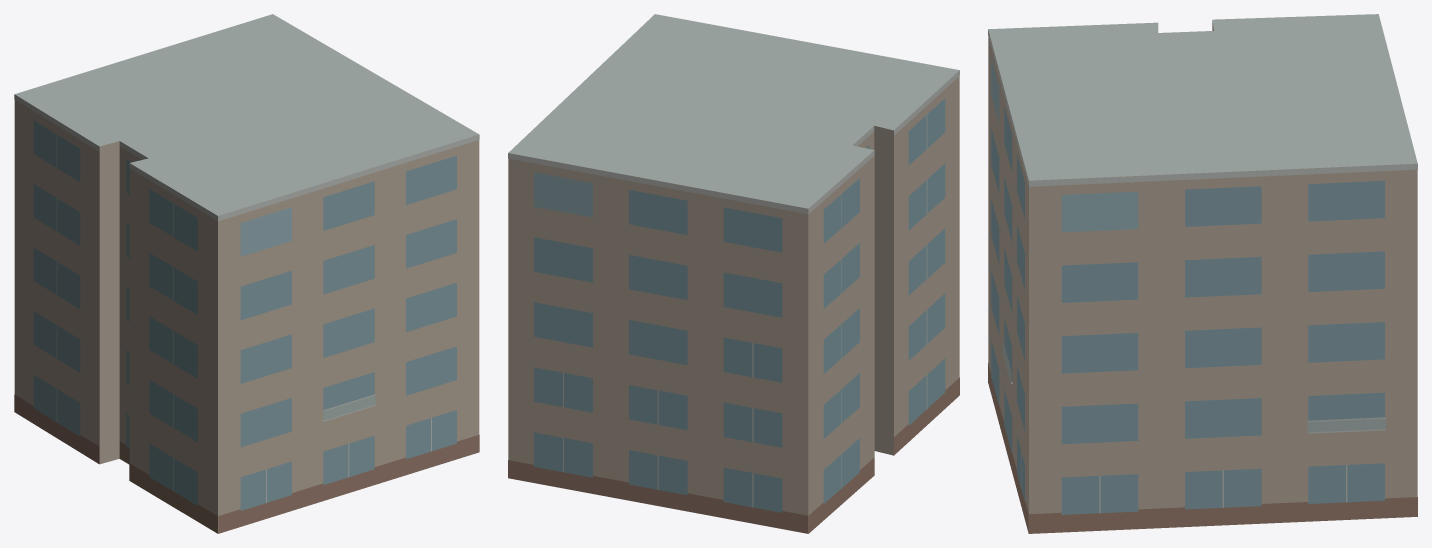
Rendered from survey-upis-33013087.glb.
3 renders of one model, left to right at view 1: azimuth 30°, elevation 25°; view 2: azimuth 150°, elevation 25°; view 3: azimuth 270°, elevation 25°, orthographic. The views are drawn at different scales.
Visible parts, largest first — view 1: survey-upis-33013087.tmp; view 2: survey-upis-33013087.tmp; view 3: survey-upis-33013087.tmp.
Boxes of the visible parts, x1=… form: survey-upis-33013087.tmp: x1=14, y1=14, x2=479, y2=533; survey-upis-33013087.tmp: x1=508, y1=14, x2=959, y2=533; survey-upis-33013087.tmp: x1=988, y1=14, x2=1417, y2=533.
Bounding box in the file's own units: 14.59 × 14.4 × 15.89.
